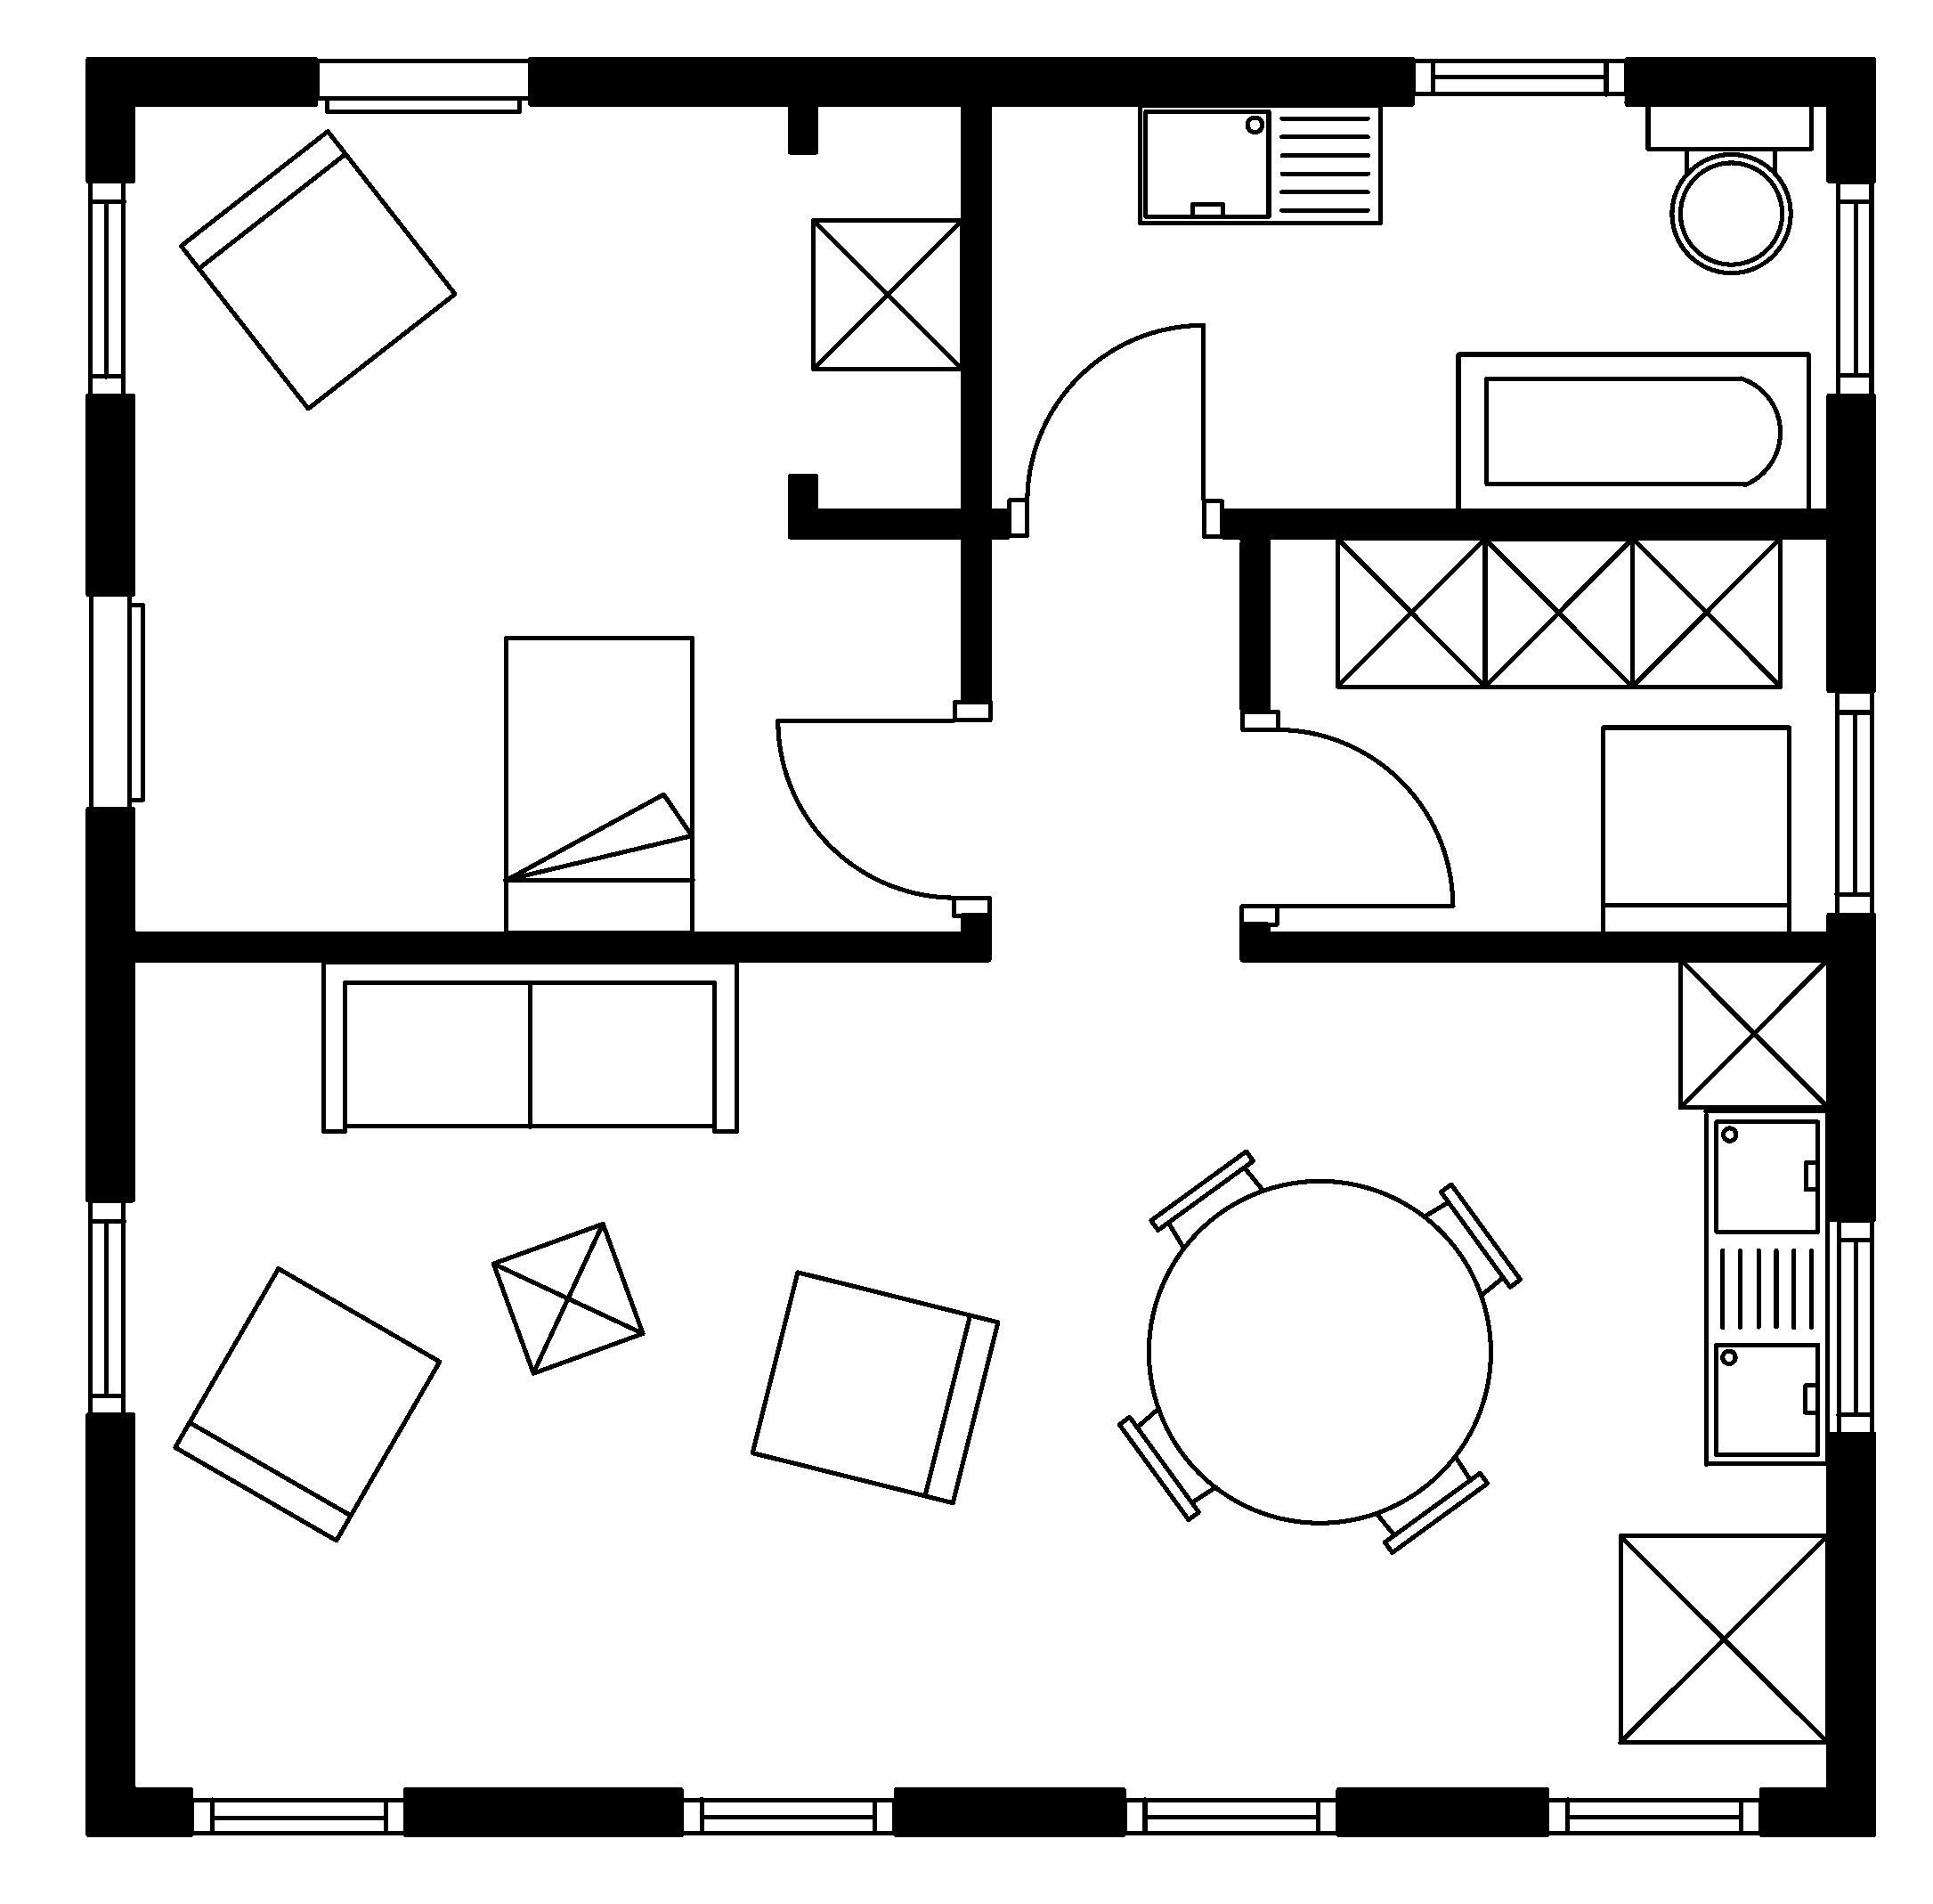basin: (1699, 1109, 1830, 1472), (1133, 105, 1387, 230)
bed: (500, 629, 699, 933)
door: (1004, 317, 1225, 539), (1238, 710, 1461, 928), (770, 699, 994, 915)
roundTable: (1114, 1144, 1530, 1561)
window: (190, 1792, 403, 1839), (1122, 1794, 1340, 1839), (680, 1794, 896, 1839), (1546, 1794, 1762, 1839), (1412, 56, 1628, 101), (84, 1201, 129, 1416), (1832, 180, 1877, 394), (85, 178, 129, 399), (1835, 690, 1877, 914), (1835, 1215, 1877, 1431)
